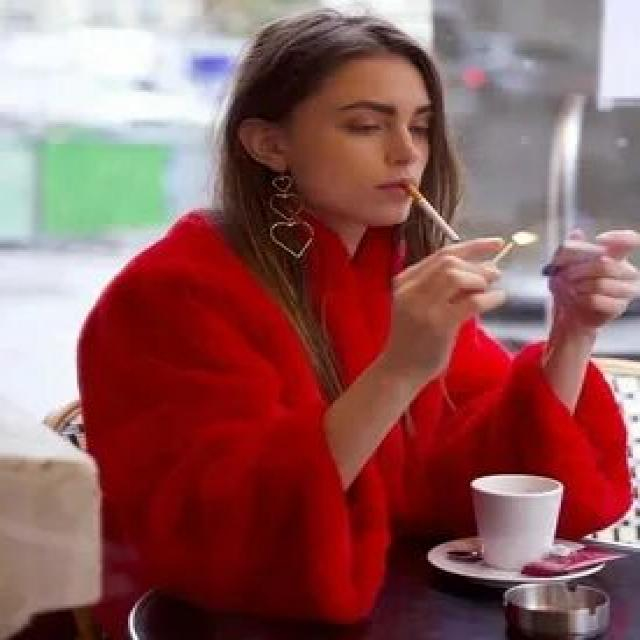smoke: (398, 178, 468, 250)
